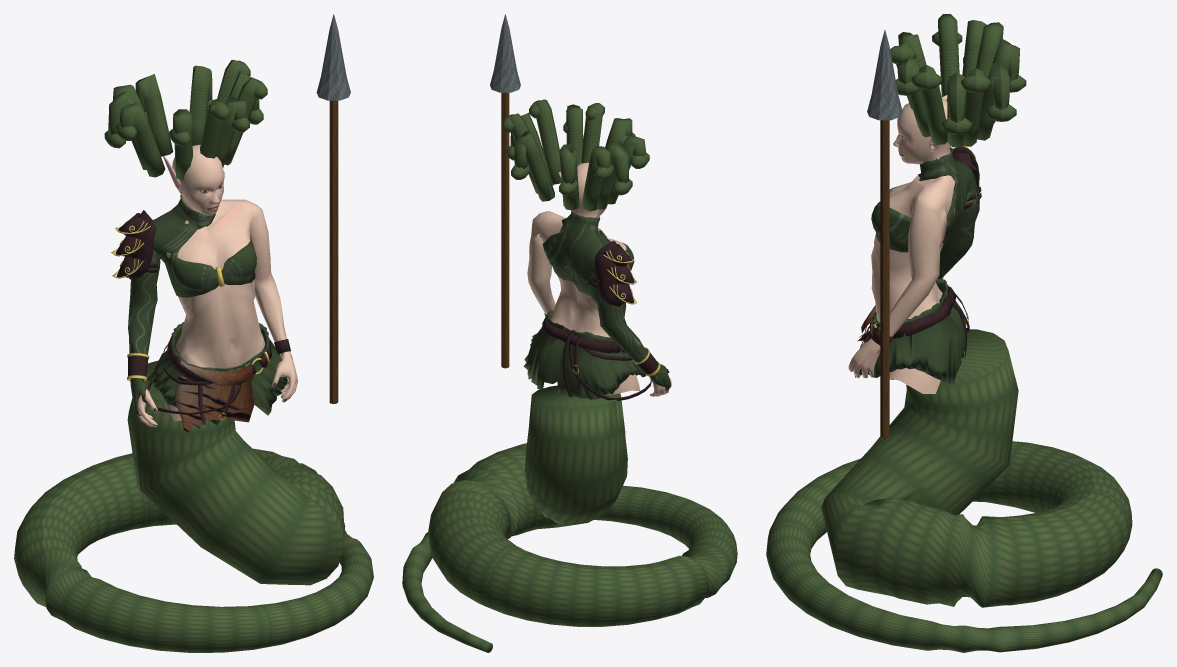
File: special-medusa.glb
3 renders of one model, left to right at view 1: azimuth 30°, elevation 25°; view 2: azimuth 150°, elevation 25°; view 3: azimuth 270°, elevation 25°, orthographic. The views are drawn at different scales.
Visible parts, largest first — view 1: scale, Licensed clothed female anatomy - adapted elf, wood, steel; view 2: scale, Licensed clothed female anatomy - adapted elf, wood, steel; view 3: scale, Licensed clothed female anatomy - adapted elf, wood, steel.
Part boxes in pixels (x1=…): scale: x1=14, y1=60, x2=373, y2=652; Licensed clothed female anatomy - adapted elf: x1=111, y1=144, x2=297, y2=433; wood: x1=329, y1=100, x2=338, y2=403; steel: x1=316, y1=14, x2=350, y2=100; scale: x1=402, y1=99, x2=737, y2=652; Licensed clothed female anatomy - adapted elf: x1=523, y1=162, x2=671, y2=400; wood: x1=501, y1=92, x2=509, y2=368; steel: x1=490, y1=14, x2=520, y2=92; scale: x1=766, y1=14, x2=1162, y2=652; Licensed clothed female anatomy - adapted elf: x1=848, y1=95, x2=981, y2=393; wood: x1=880, y1=120, x2=889, y2=437; steel: x1=867, y1=30, x2=902, y2=120.
Size of the model in its own units: 0.9531 by 1.67 by 0.9918.
Materials: 5 (5 with a texture image).
